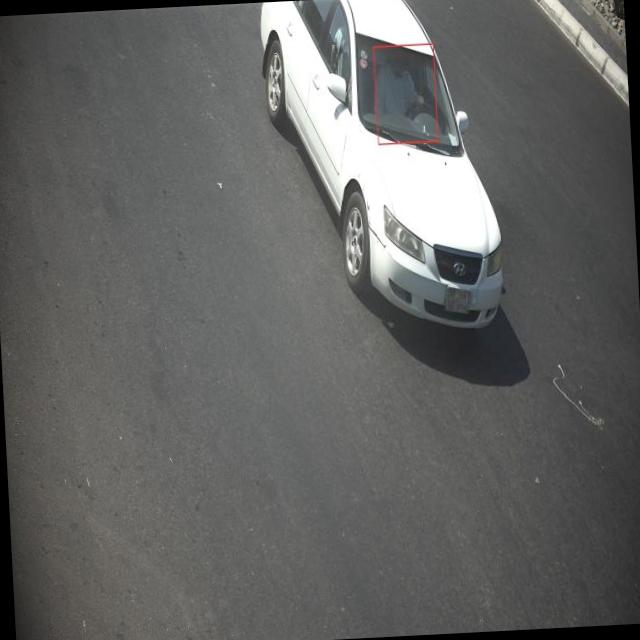person_without_seatbelt: (378, 46, 436, 140)
